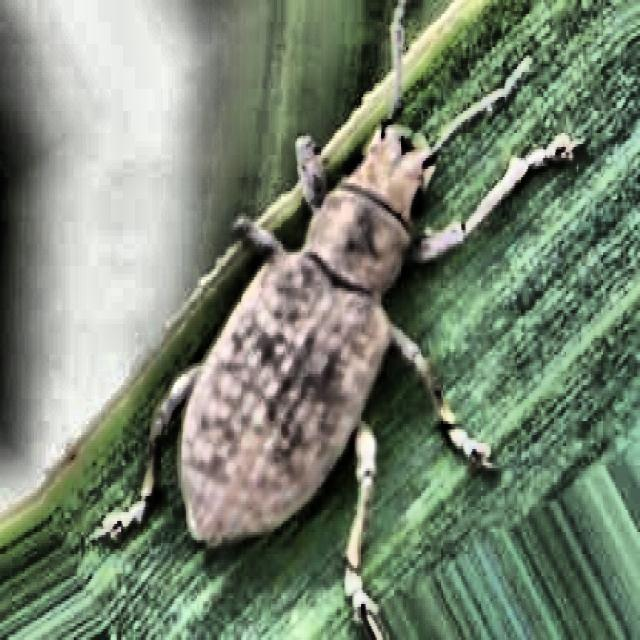Stink bug: (89, 38, 491, 553)
